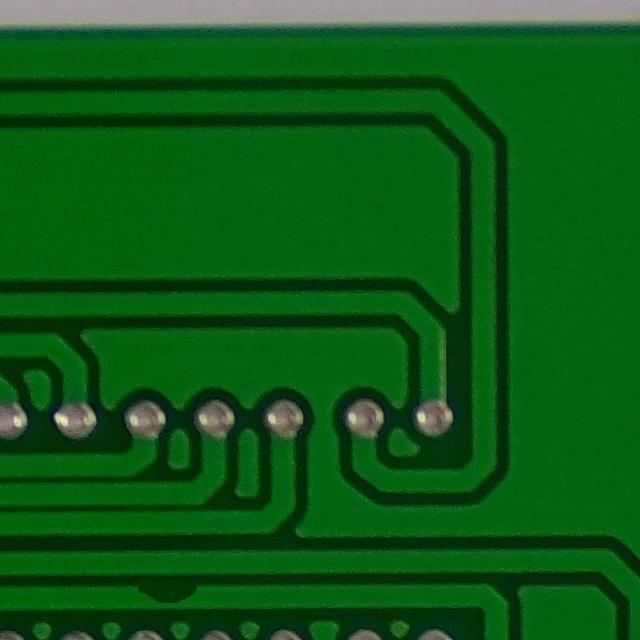mouse_bite: (127, 576, 207, 613)
